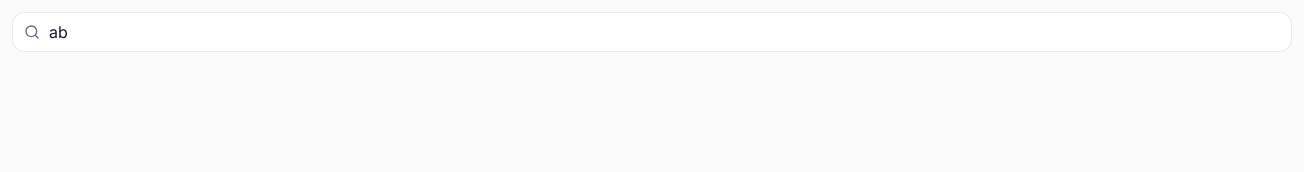
Test case: SearchSelect › muestra spinner de Buscando... cuando isSearching es true
The width and height of the screenshot is (1304, 172).
Step 1. Click the field with placeholder "Buscar..." → click(652, 32), box x1=12 y1=12 x2=1292 y2=52
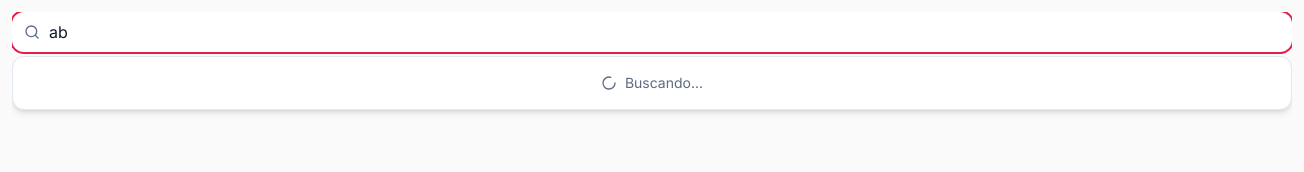
Now the text "Buscando..." is shown, box x1=601 y1=74 x2=703 y2=91
